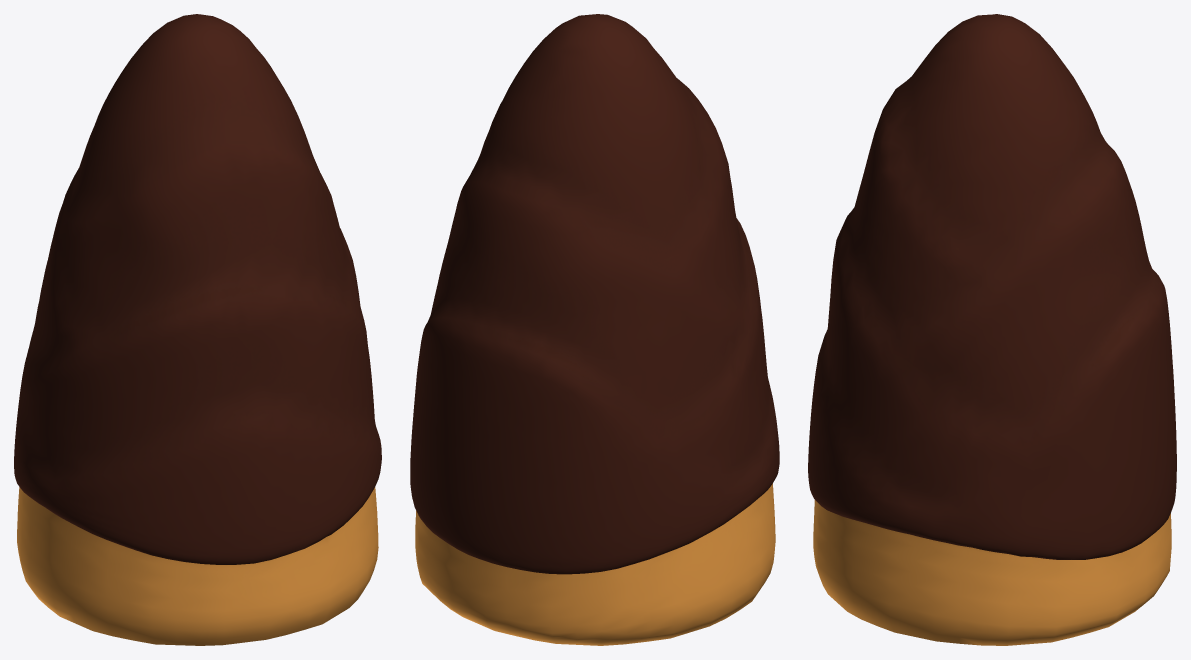
File: bamboo3.glb
3 views of the same model, side by side, from view 1: azimuth 30°, elevation 25°; view 2: azimuth 150°, elevation 25°; view 3: azimuth 270°, elevation 25° (orthographic).
Parts seen in each view (by area): view 1: BambooBase_L_remesh; view 2: BambooBase_L_remesh; view 3: BambooBase_L_remesh.
Part boxes in pixels (x1=…): BambooBase_L_remesh: x1=14, y1=14, x2=381, y2=645; BambooBase_L_remesh: x1=410, y1=14, x2=779, y2=645; BambooBase_L_remesh: x1=808, y1=14, x2=1176, y2=645.
Bounding box in the file's own units: 0.4803 × 0.8129 × 0.4821.
1 material, 1 textured.
